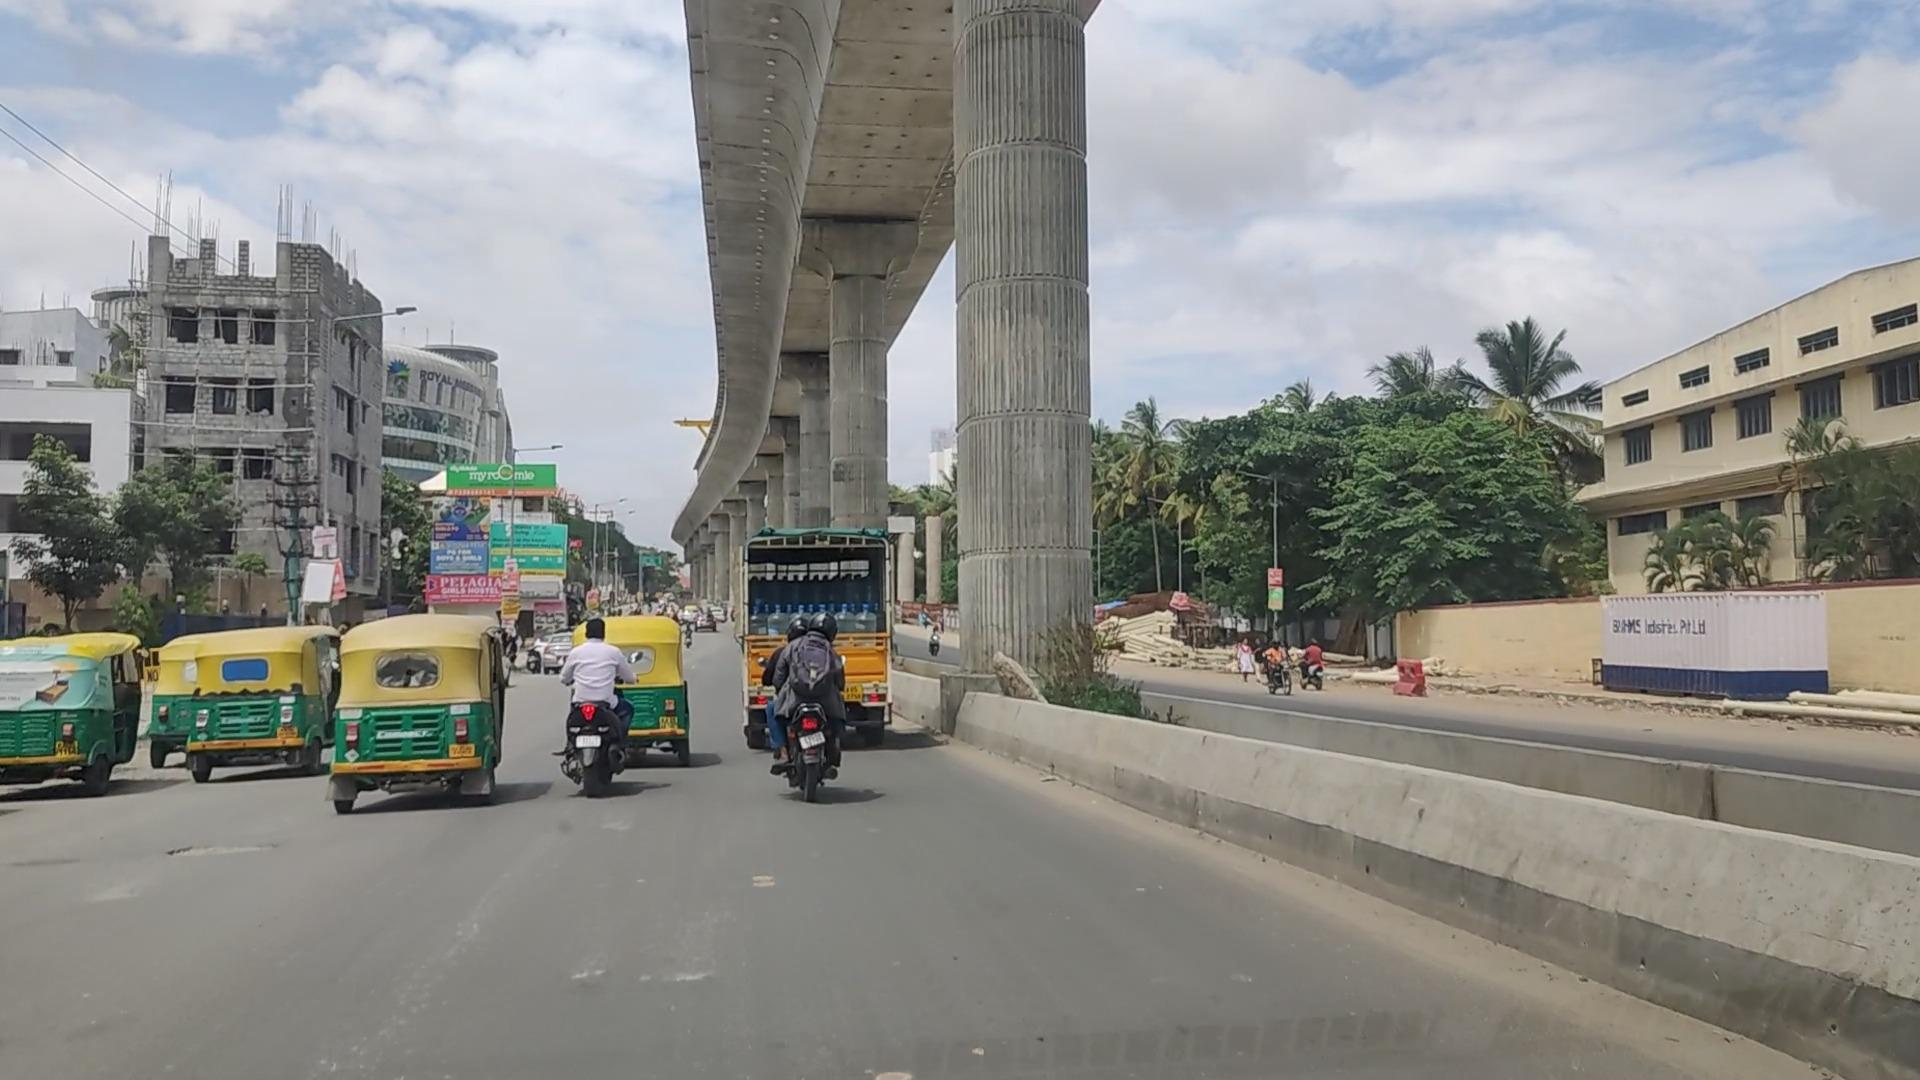HMV: (738, 538, 894, 745)
LMV: (332, 616, 506, 804), (199, 629, 349, 783), (771, 607, 845, 800), (571, 621, 634, 798)
RoadDamages: (167, 833, 285, 870)
